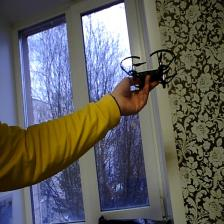drone: (120, 46, 180, 91)
